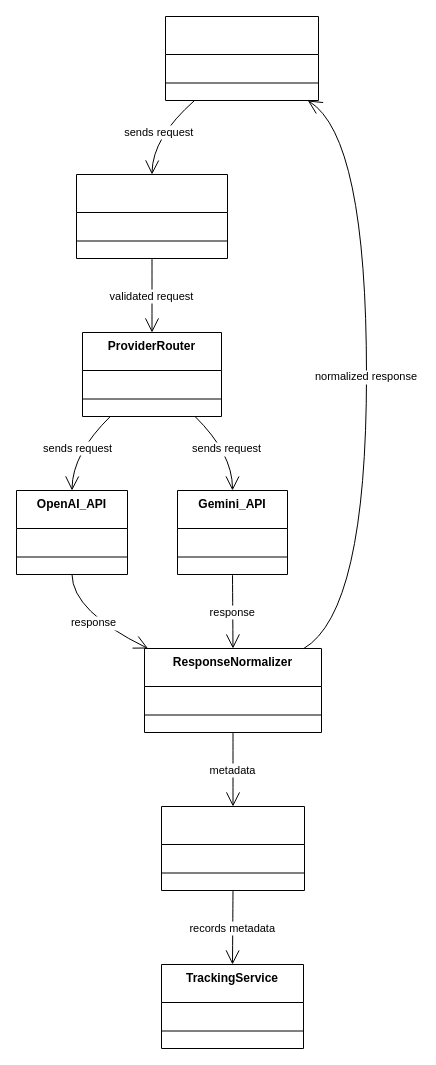
Some shapes in this 436 by 1065 pixel diagram are drawn without their labels. Here are the shapes that lost their labels. From the top down, the centre of each, then its label:
point (241, 58): ClientApplication
point (152, 216): RequestValidator
point (232, 848): TrackingEmitter
